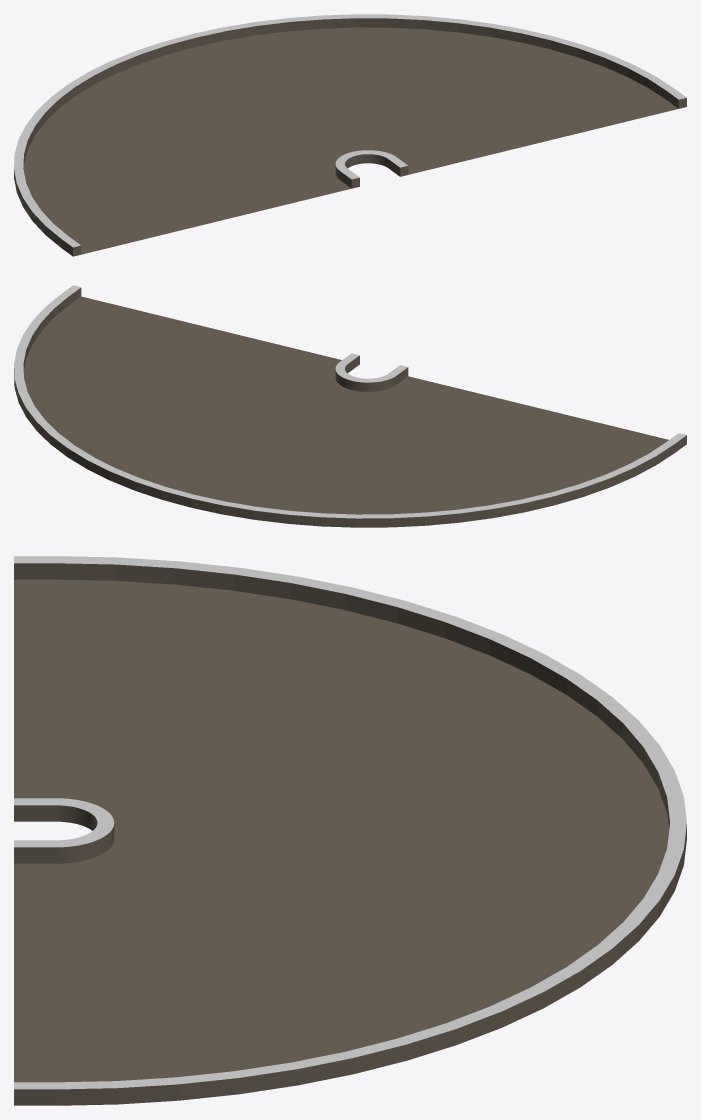
File: s-180.edge.fbx
3 views of the same model, one above another, from view 1: azimuth 30°, elevation 25°; view 2: azimuth 150°, elevation 25°; view 3: azimuth 270°, elevation 25° (orthographic). The views are drawn at different scales.
Visible parts, largest first — view 1: s-180.edge; view 2: s-180.edge; view 3: s-180.edge.
Boxes of the visible parts, bbox=[...] form: s-180.edge: bbox=[14, 14, 686, 256]; s-180.edge: bbox=[14, 285, 686, 527]; s-180.edge: bbox=[14, 556, 686, 1105].
Size of the model in its own units: 5250 by 75 by 2800.
